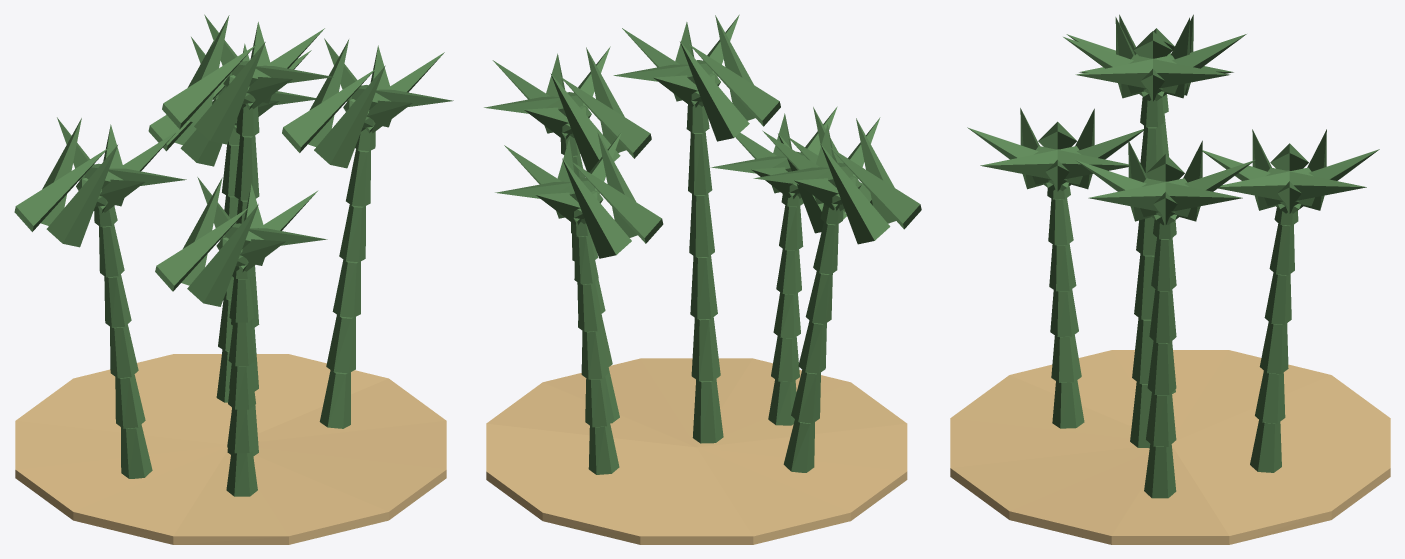
File: coconut-grove.source.glb
3 renders of one model, left to right at view 1: azimuth 30°, elevation 25°; view 2: azimuth 150°, elevation 25°; view 3: azimuth 270°, elevation 25°, orthographic. The views are drawn at different scales.
Visible parts, largest first — view 1: coconut-grove-low-sandy-ground-pad-mesh, coconut-grove-right-leaning-palm-frond-4-mesh, coconut-grove-central-tall-palm-frond-4-mesh, coconut-grove-left-leaning-palm-frond-4-mesh, coconut-grove-young-front-palm-frond-4-mesh, coconut-grove-young-front-palm-frond-5-mesh, coconut-grove-central-tall-palm-frond-5-mesh, coconut-grove-left-leaning-palm-frond-5-mesh, coconut-grove-right-leaning-palm-frond-5-mesh, coconut-grove-right-leaning-palm-trunk-segment-1-mesh, coconut-grove-right-leaning-palm-trunk-segment-2-mesh, coconut-grove-left-leaning-palm-trunk-segment-1-mesh (+39 smaller); view 2: coconut-grove-low-sandy-ground-pad-mesh, coconut-grove-rear-palm-frond-6-mesh, coconut-grove-left-leaning-palm-frond-6-mesh, coconut-grove-central-tall-palm-frond-6-mesh, coconut-grove-right-leaning-palm-frond-6-mesh, coconut-grove-central-tall-palm-frond-5-mesh, coconut-grove-left-leaning-palm-frond-5-mesh, coconut-grove-rear-palm-frond-5-mesh, coconut-grove-right-leaning-palm-frond-5-mesh, coconut-grove-central-tall-palm-trunk-segment-1-mesh, coconut-grove-central-tall-palm-trunk-segment-2-mesh, coconut-grove-central-tall-palm-trunk-segment-3-mesh (+40 smaller); view 3: coconut-grove-low-sandy-ground-pad-mesh, coconut-grove-right-leaning-palm-trunk-segment-1-mesh, coconut-grove-rear-palm-trunk-segment-1-mesh, coconut-grove-right-leaning-palm-trunk-segment-2-mesh, coconut-grove-central-tall-palm-frond-2-mesh, coconut-grove-right-leaning-palm-frond-8-mesh, coconut-grove-rear-palm-frond-8-mesh, coconut-grove-central-tall-palm-frond-8-mesh, coconut-grove-right-leaning-palm-frond-2-mesh, coconut-grove-young-front-palm-frond-2-mesh, coconut-grove-rear-palm-frond-2-mesh, coconut-grove-rear-palm-trunk-segment-2-mesh (+38 smaller).
Part boxes in pixels (bbox=[...]): coconut-grove-low-sandy-ground-pad-mesh: bbox=[15, 354, 446, 544]; coconut-grove-right-leaning-palm-frond-4-mesh: bbox=[314, 65, 385, 168]; coconut-grove-central-tall-palm-frond-4-mesh: bbox=[194, 42, 265, 144]; coconut-grove-left-leaning-palm-frond-4-mesh: bbox=[46, 145, 117, 247]; coconut-grove-young-front-palm-frond-4-mesh: bbox=[187, 204, 258, 306]; coconut-grove-young-front-palm-frond-5-mesh: bbox=[155, 207, 248, 291]; coconut-grove-central-tall-palm-frond-5-mesh: bbox=[162, 45, 255, 129]; coconut-grove-left-leaning-palm-frond-5-mesh: bbox=[14, 148, 108, 231]; coconut-grove-right-leaning-palm-frond-5-mesh: bbox=[282, 69, 375, 152]; coconut-grove-right-leaning-palm-trunk-segment-1-mesh: bbox=[319, 370, 350, 428]; coconut-grove-right-leaning-palm-trunk-segment-2-mesh: bbox=[326, 315, 355, 373]; coconut-grove-left-leaning-palm-trunk-segment-1-mesh: bbox=[121, 424, 152, 478]; coconut-grove-low-sandy-ground-pad-mesh: bbox=[486, 358, 907, 544]; coconut-grove-rear-palm-frond-6-mesh: bbox=[562, 158, 631, 258]; coconut-grove-left-leaning-palm-frond-6-mesh: bbox=[820, 144, 890, 244]; coconut-grove-central-tall-palm-frond-6-mesh: bbox=[680, 41, 749, 141]; coconut-grove-right-leaning-palm-frond-6-mesh: bbox=[550, 73, 620, 172]; coconut-grove-central-tall-palm-frond-5-mesh: bbox=[689, 44, 780, 126]; coconut-grove-left-leaning-palm-frond-5-mesh: bbox=[830, 147, 921, 229]; coconut-grove-rear-palm-frond-5-mesh: bbox=[571, 161, 663, 243]; coconut-grove-right-leaning-palm-frond-5-mesh: bbox=[560, 76, 651, 158]; coconut-grove-central-tall-palm-trunk-segment-1-mesh: bbox=[692, 379, 723, 443]; coconut-grove-central-tall-palm-trunk-segment-2-mesh: bbox=[691, 317, 720, 381]; coconut-grove-central-tall-palm-trunk-segment-3-mesh: bbox=[690, 255, 717, 319]; coconut-grove-low-sandy-ground-pad-mesh: bbox=[950, 350, 1390, 544]; coconut-grove-right-leaning-palm-trunk-segment-1-mesh: bbox=[1144, 444, 1176, 498]; coconut-grove-rear-palm-trunk-segment-1-mesh: bbox=[1250, 420, 1281, 472]; coconut-grove-right-leaning-palm-trunk-segment-2-mesh: bbox=[1146, 392, 1176, 446]; coconut-grove-central-tall-palm-frond-2-mesh: bbox=[1075, 55, 1178, 93]; coconut-grove-right-leaning-palm-frond-8-mesh: bbox=[1140, 178, 1242, 216]; coconut-grove-rear-palm-frond-8-mesh: bbox=[1264, 167, 1366, 206]; coconut-grove-central-tall-palm-frond-8-mesh: bbox=[1127, 55, 1230, 93]; coconut-grove-right-leaning-palm-frond-2-mesh: bbox=[1088, 178, 1190, 216]; coconut-grove-young-front-palm-frond-2-mesh: bbox=[980, 146, 1082, 184]; coconut-grove-rear-palm-frond-2-mesh: bbox=[1218, 167, 1314, 206]; coconut-grove-rear-palm-trunk-segment-2-mesh: bbox=[1255, 371, 1285, 423].
Size of the model in its own units: 7.3 by 6.91 by 6.28.
